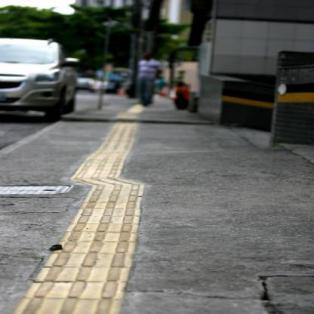Podoctatil: (14, 128, 148, 313)
